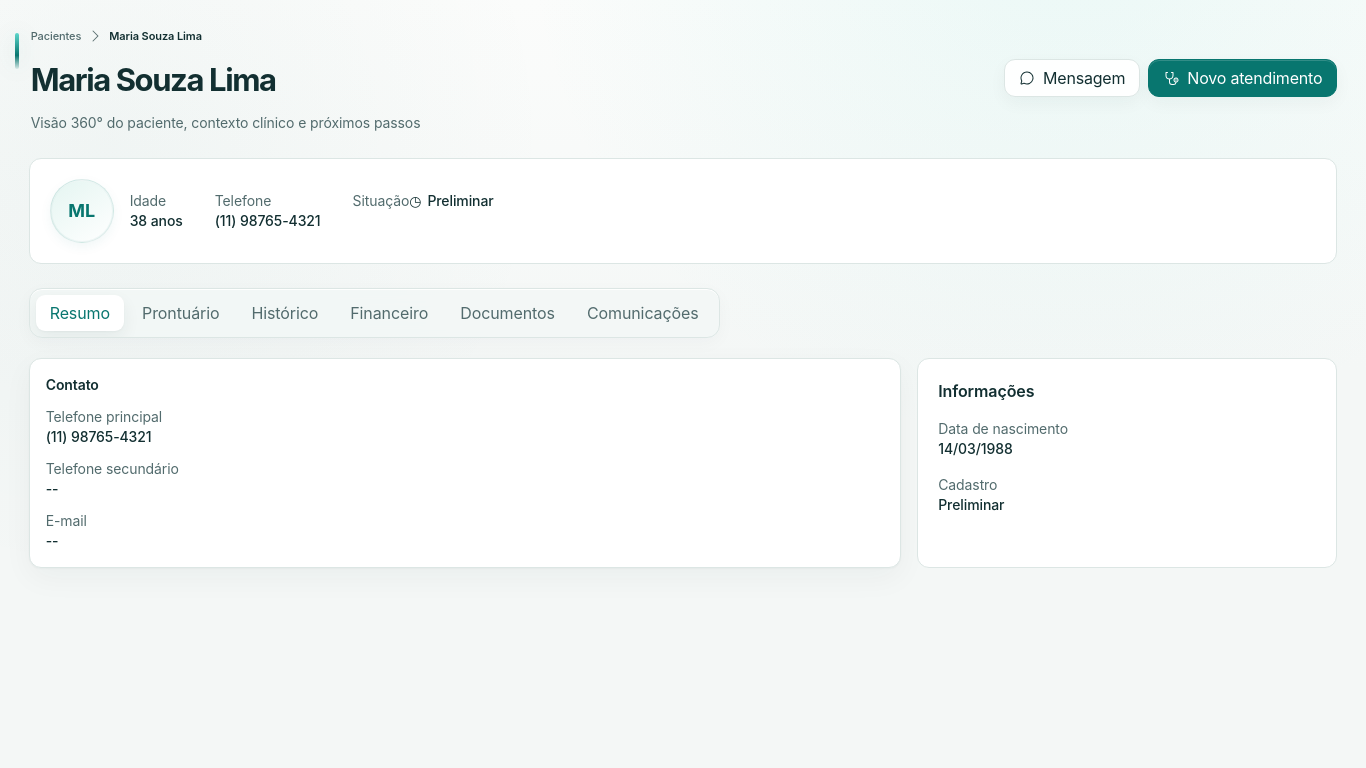
FichaDoPaciente › mostra timeline de atendimentos no tab Histórico
Click the tab "Histórico": [285, 313] box left=237, top=295, right=332, bottom=331
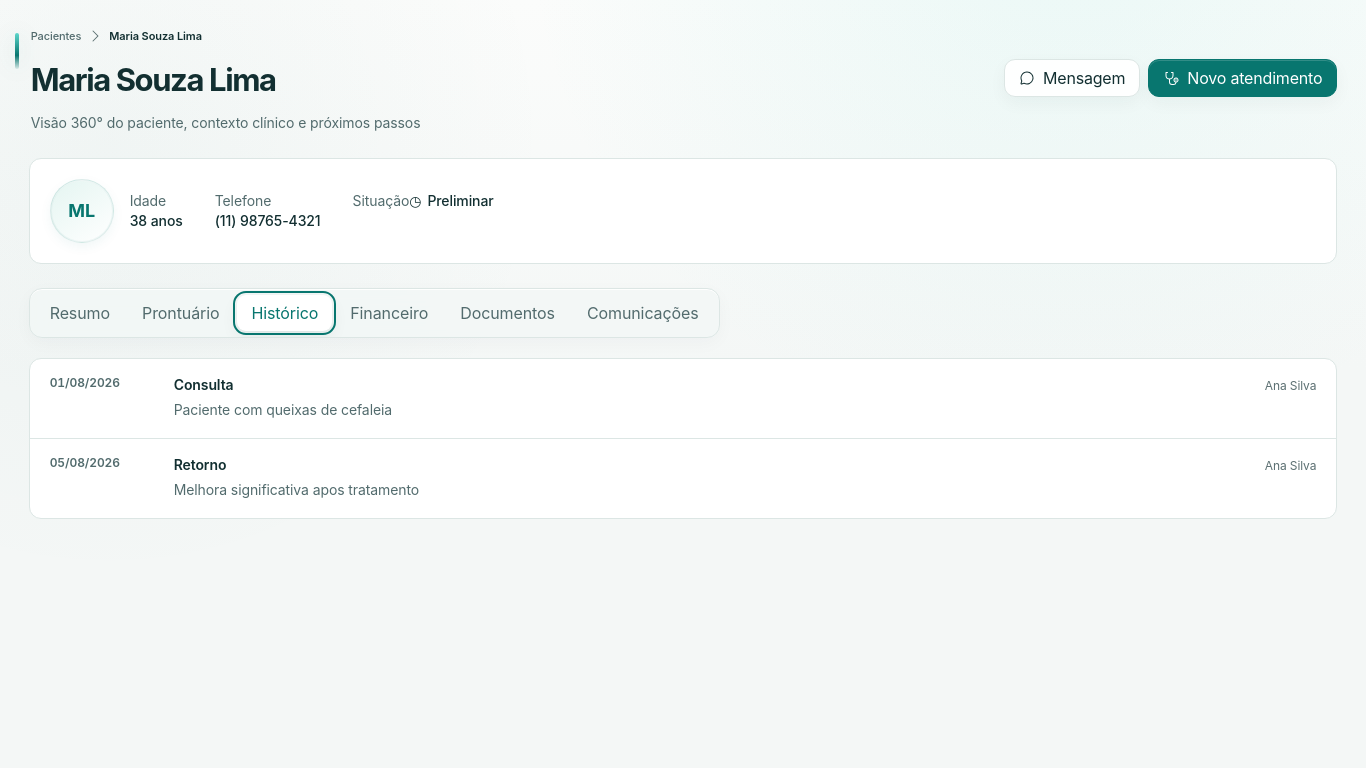
Check: the text "Consulta" is shown, box left=174, top=375, right=234, bottom=395
Check: the text "Paciente com queixas de cefaleia" is shown, box left=174, top=401, right=392, bottom=418
Check: the text "Ana Silva" is shown 2 times, box left=1265, top=378, right=1316, bottom=394; left=1265, top=458, right=1316, bottom=474
